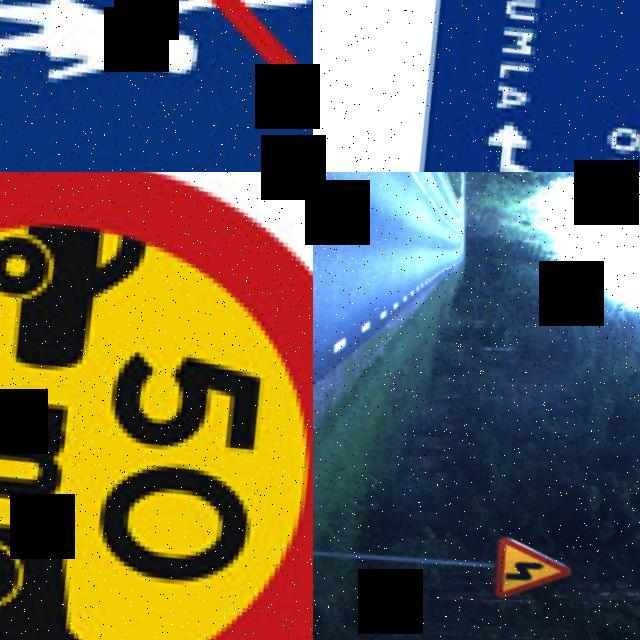139: (478, 532, 574, 619)
50 meters between vehicles: (0, 172, 313, 640)
51: (0, 0, 313, 172)
83: (341, 0, 640, 172)
